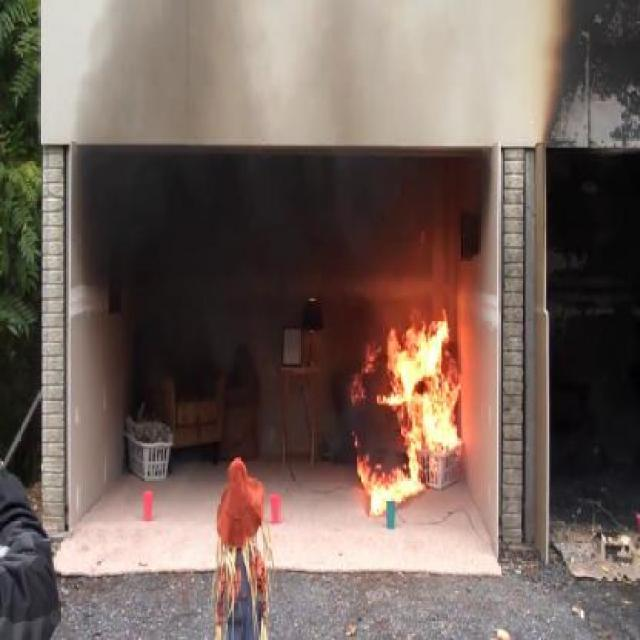fire: (354, 318, 476, 510)
smoke: (74, 60, 340, 442), (304, 100, 480, 262)
